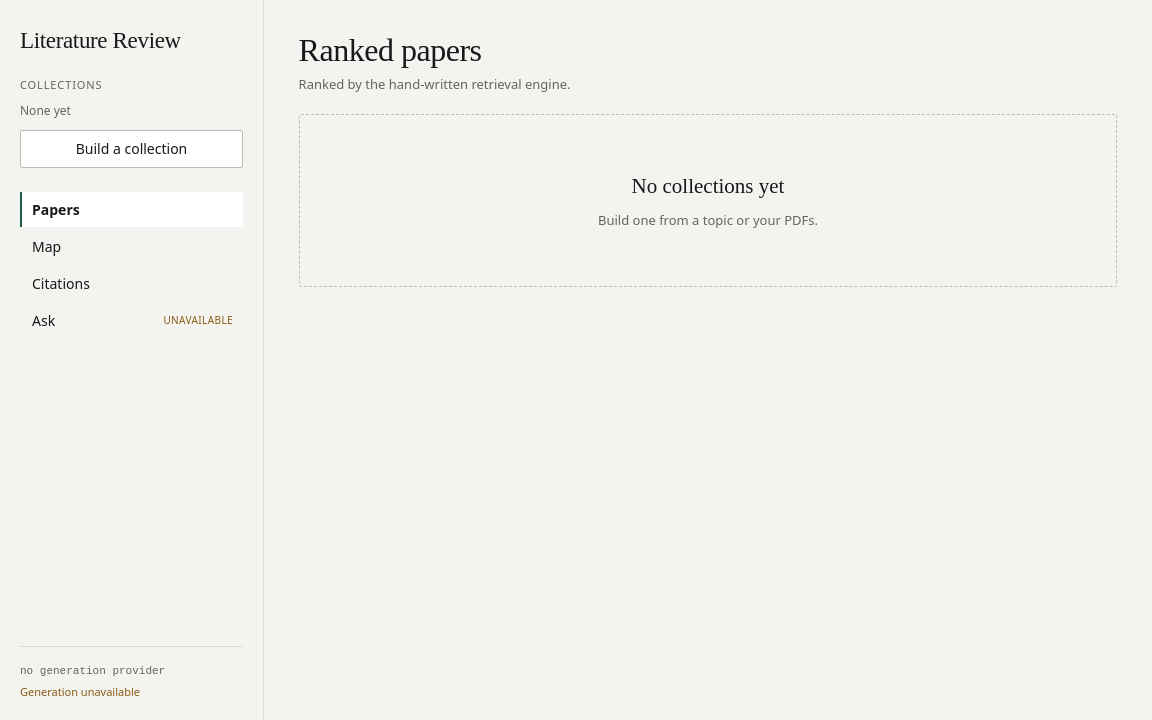
Test: app shell › shows an empty state and a build action when there are no collections
Check: the heading "No collections yet" is shown, box [632, 174, 784, 198]
Check: the text "None yet" is shown, box [20, 102, 71, 119]
Click the button "Build a collection" at (132, 149), box [20, 130, 243, 168]
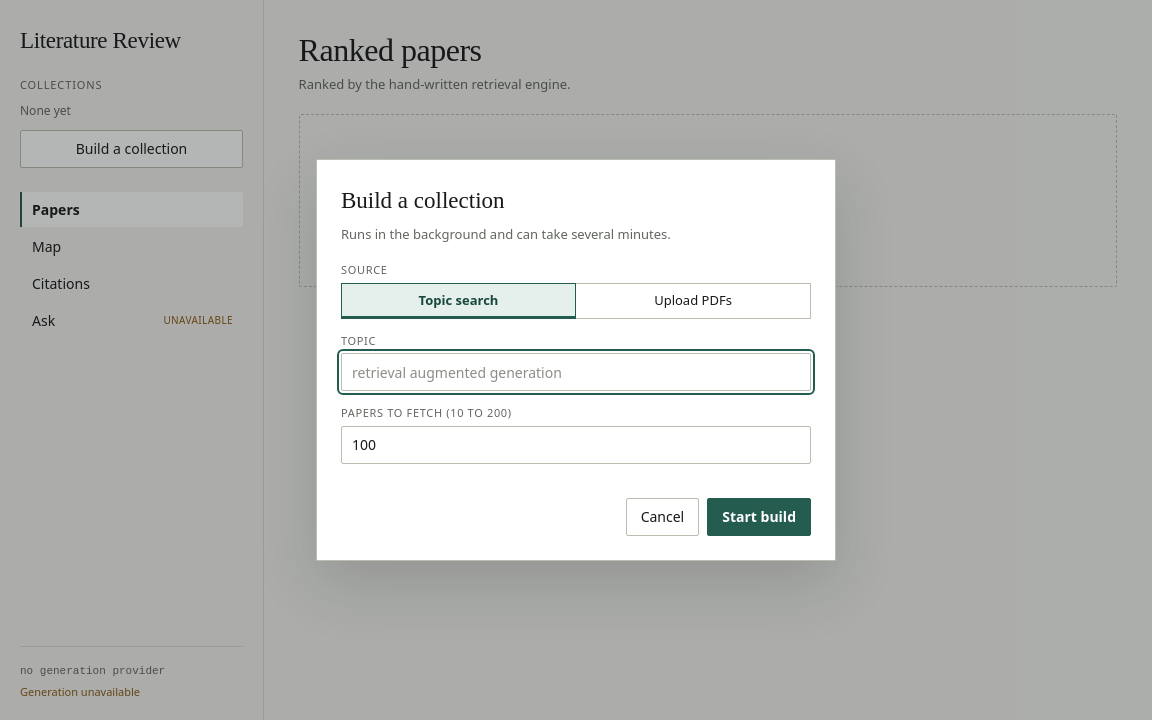
Check: the dialog "Build a collection" is shown, box [316, 159, 836, 561]
